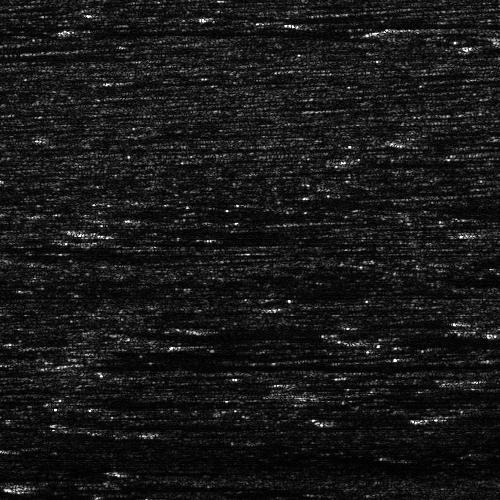rock: (5, 359, 120, 372), (151, 340, 234, 349), (0, 483, 71, 492), (464, 310, 495, 327), (85, 467, 138, 472), (280, 380, 321, 385)
shadow: (63, 359, 451, 372), (14, 483, 330, 492), (193, 340, 351, 349), (0, 489, 92, 500), (301, 380, 382, 385), (112, 467, 192, 472), (480, 310, 500, 327)
